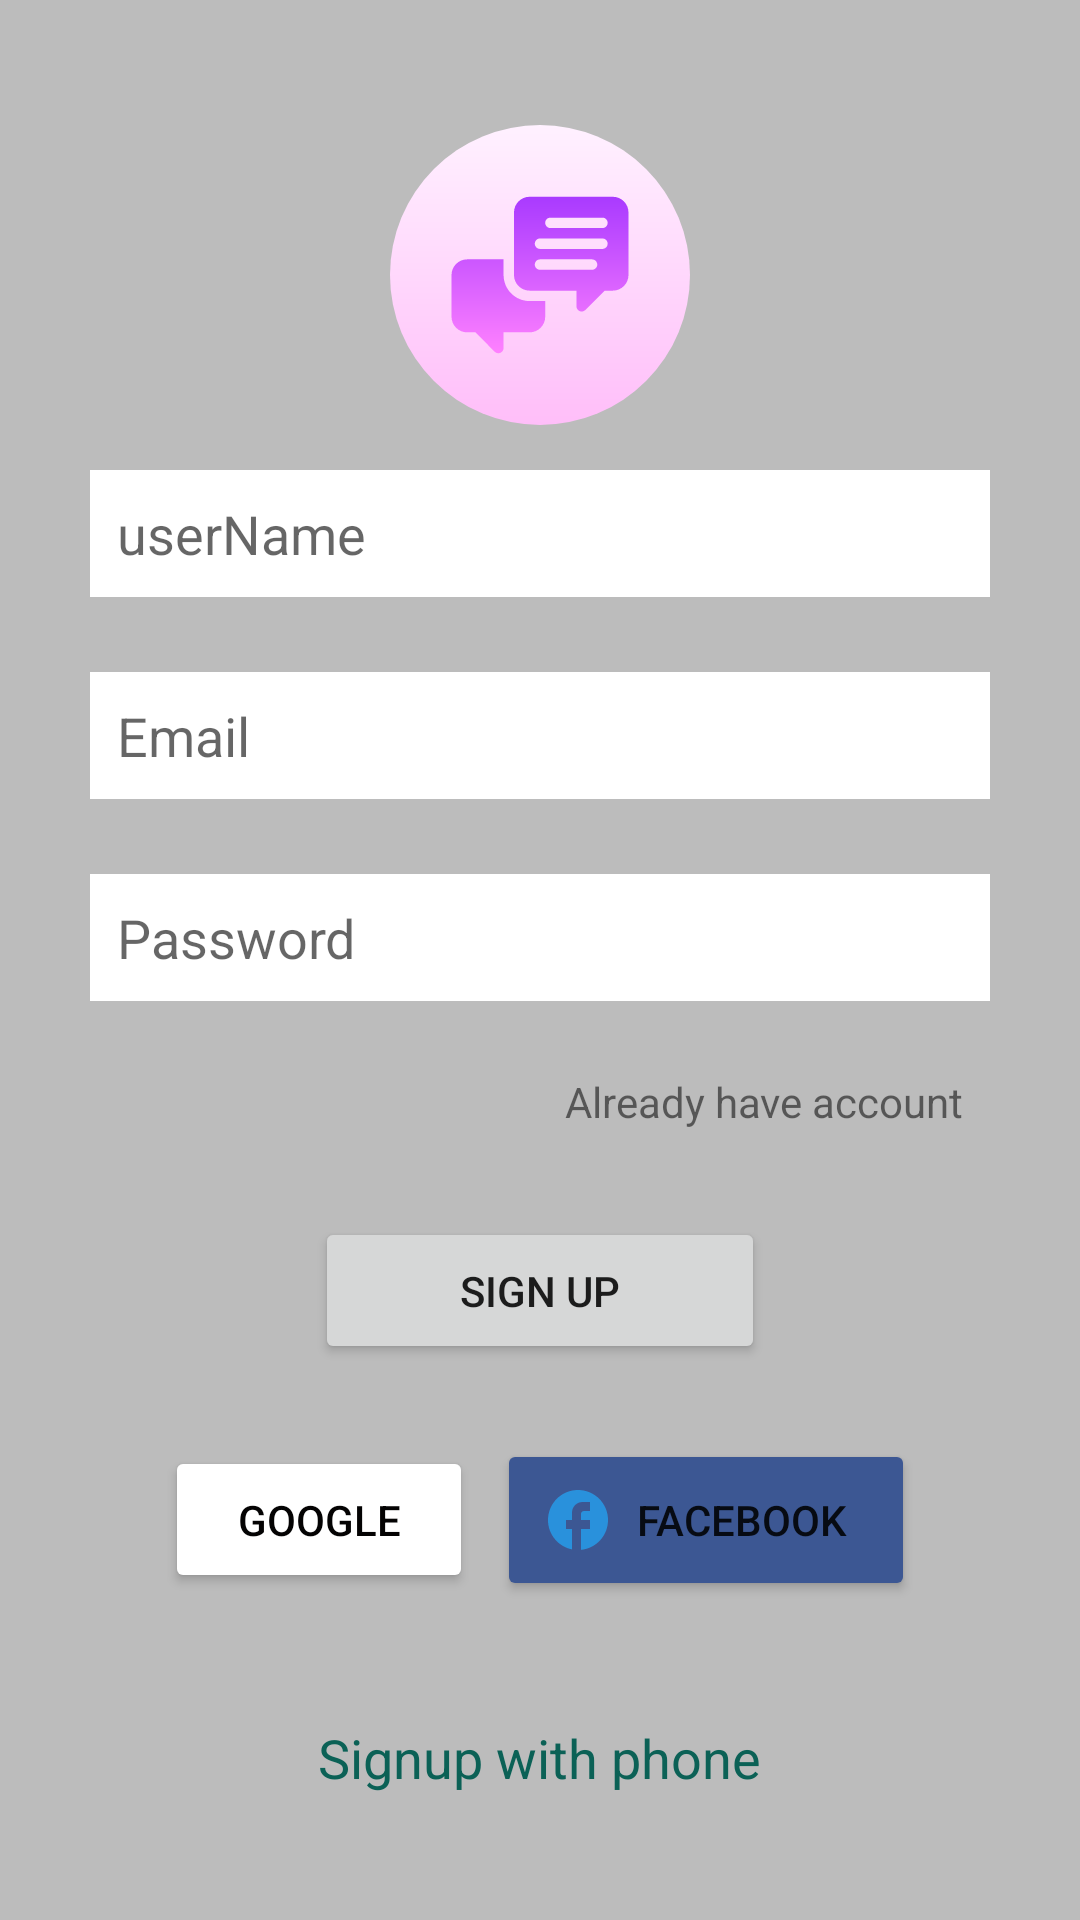

Icons on this 1080*1920 Android screen, each with its box as (x1, y1, x2, y2):
chat: (390, 125, 690, 425)
